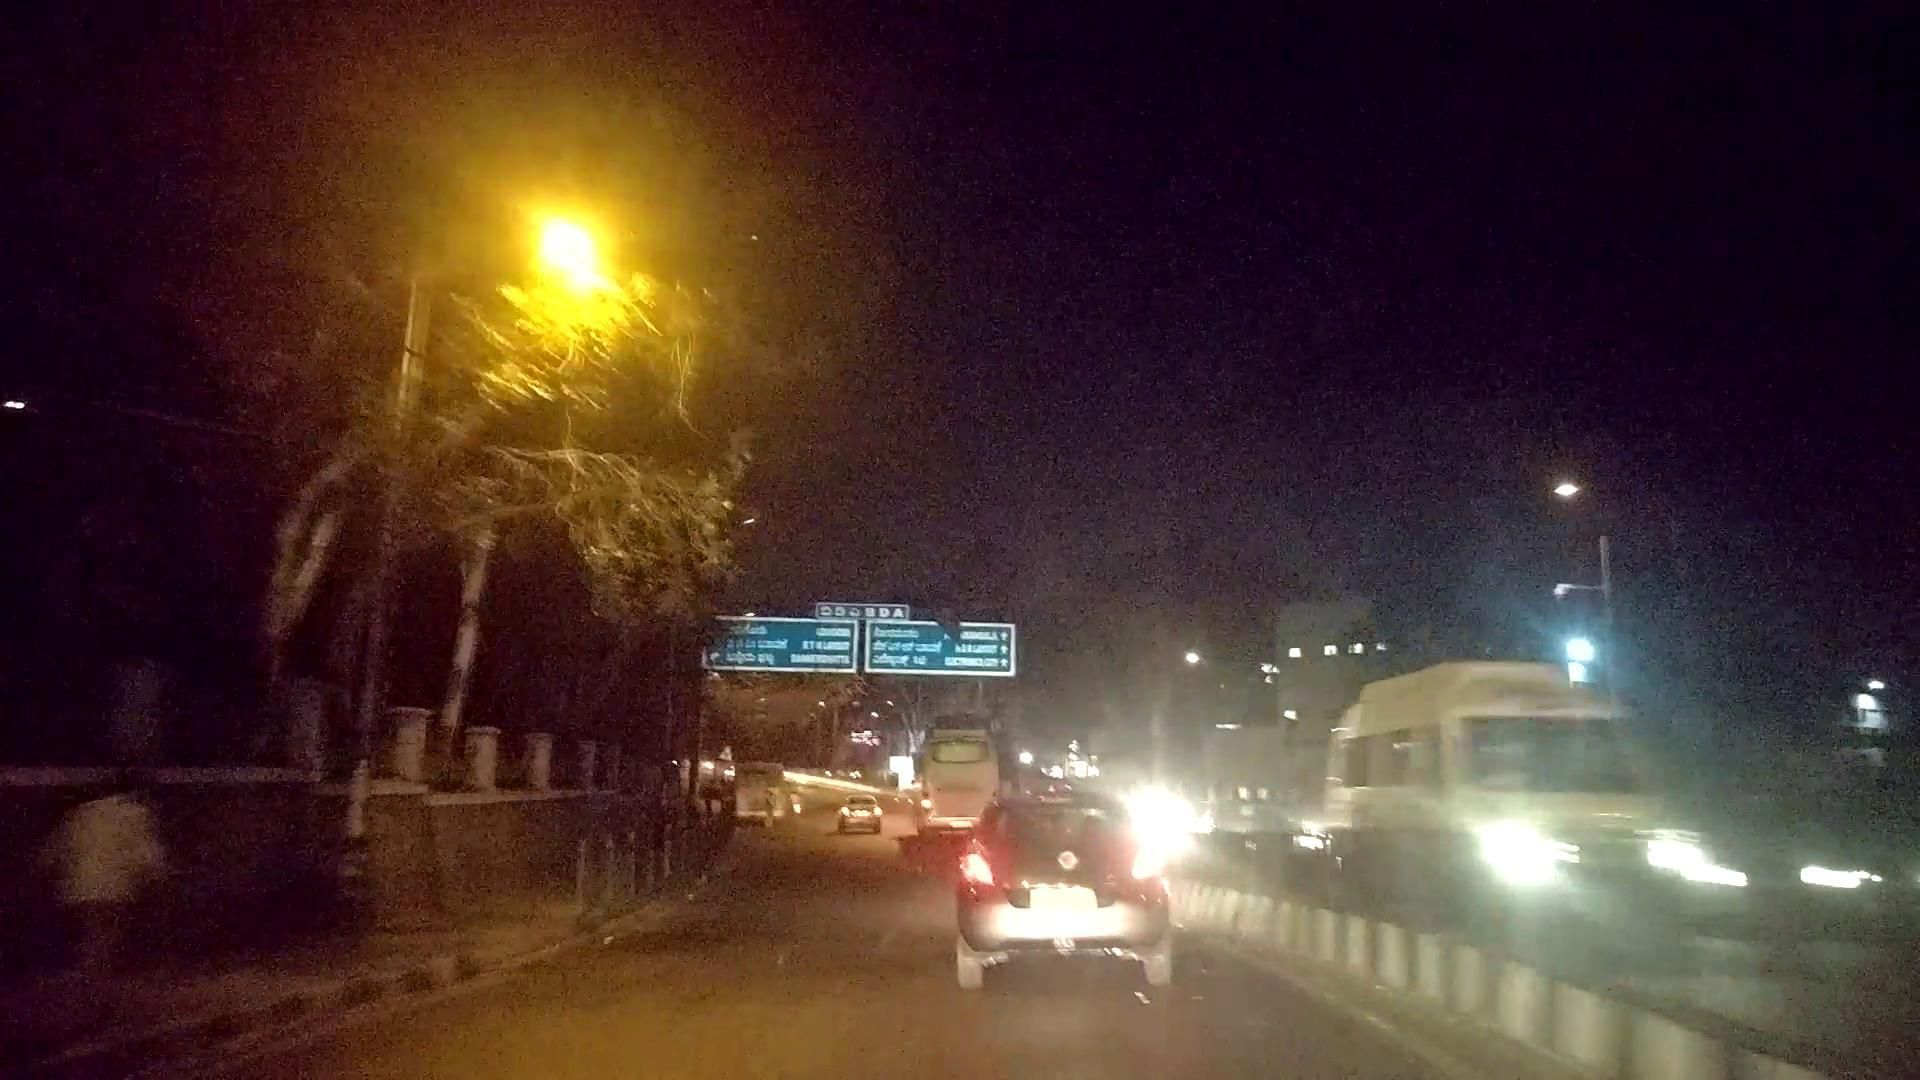on: (390, 32, 727, 483)
